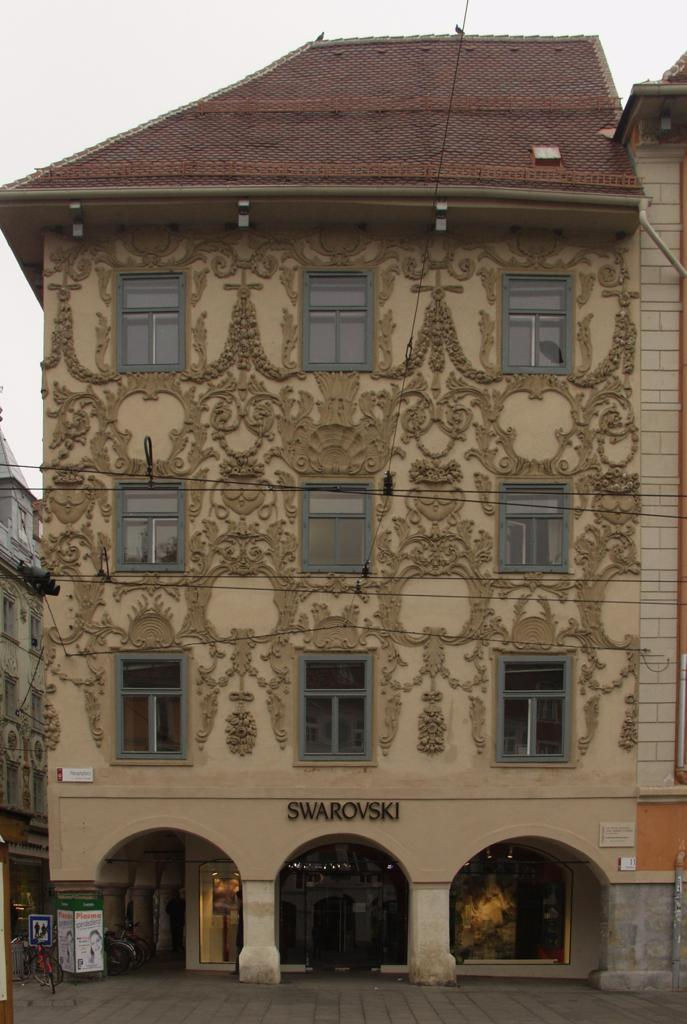window: (298, 654, 375, 762), (496, 656, 572, 764), (116, 654, 188, 762), (502, 272, 573, 375), (115, 272, 186, 374), (304, 271, 375, 373), (115, 481, 187, 573), (500, 482, 572, 574), (301, 479, 372, 572)
